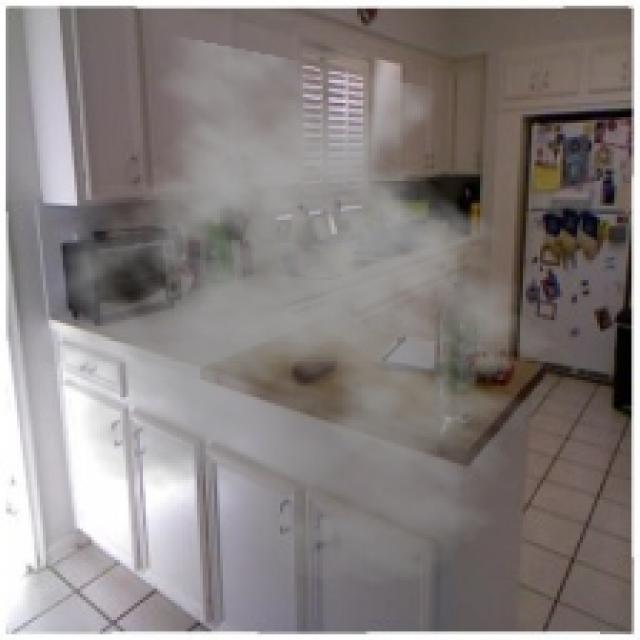smoke: (26, 34, 580, 589)
